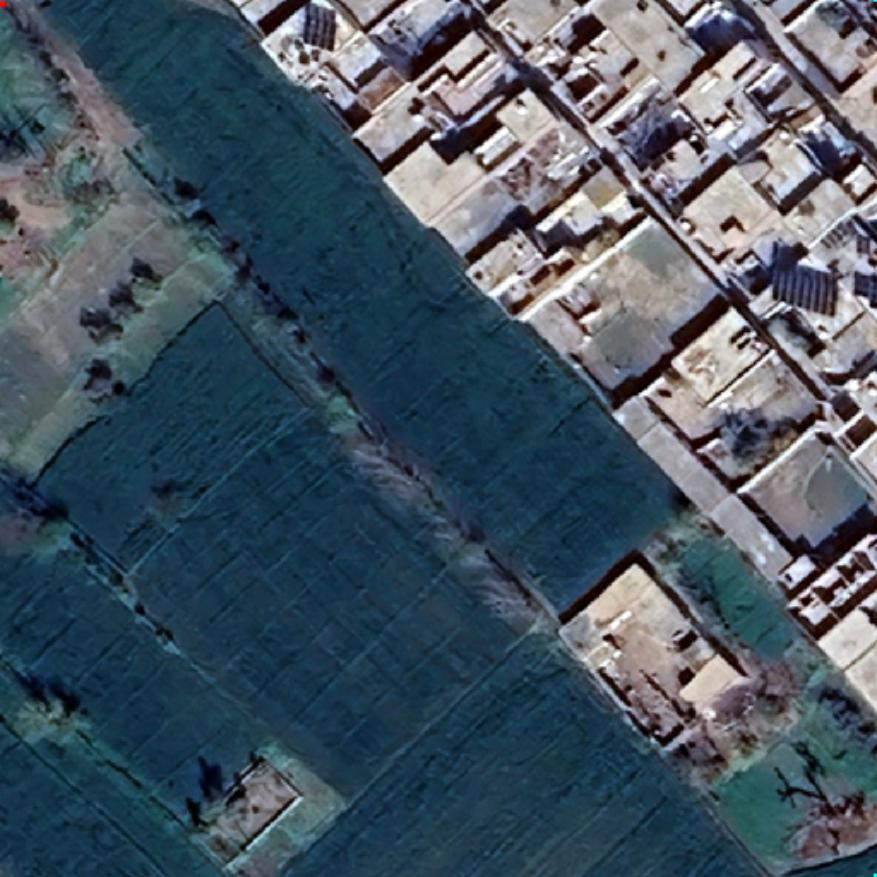Solarpanel: (768, 262, 842, 320), (300, 0, 338, 52), (852, 269, 876, 307)
